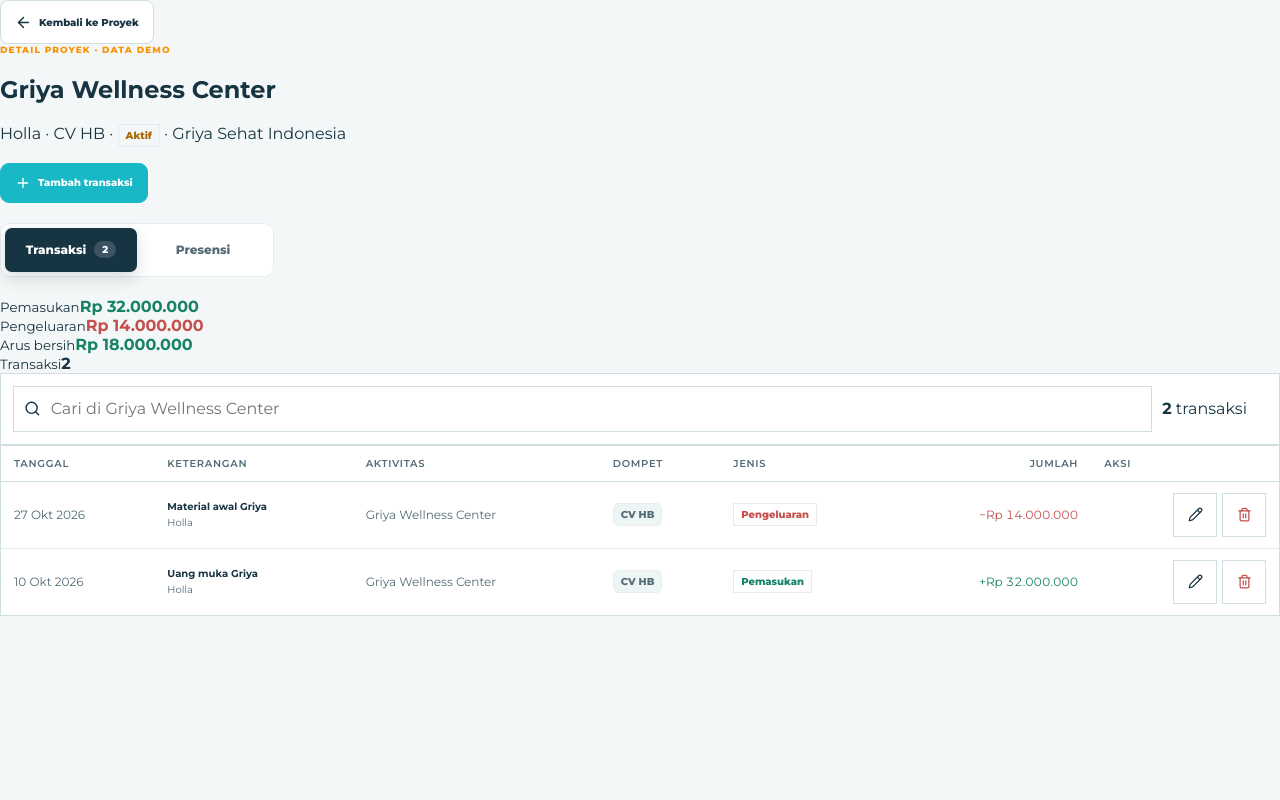
project presensi detail › shows paired selfie, location evidence, filters, and safe failure state
Click the tab "Presensi" at (203, 250), box [137,228,269,272]
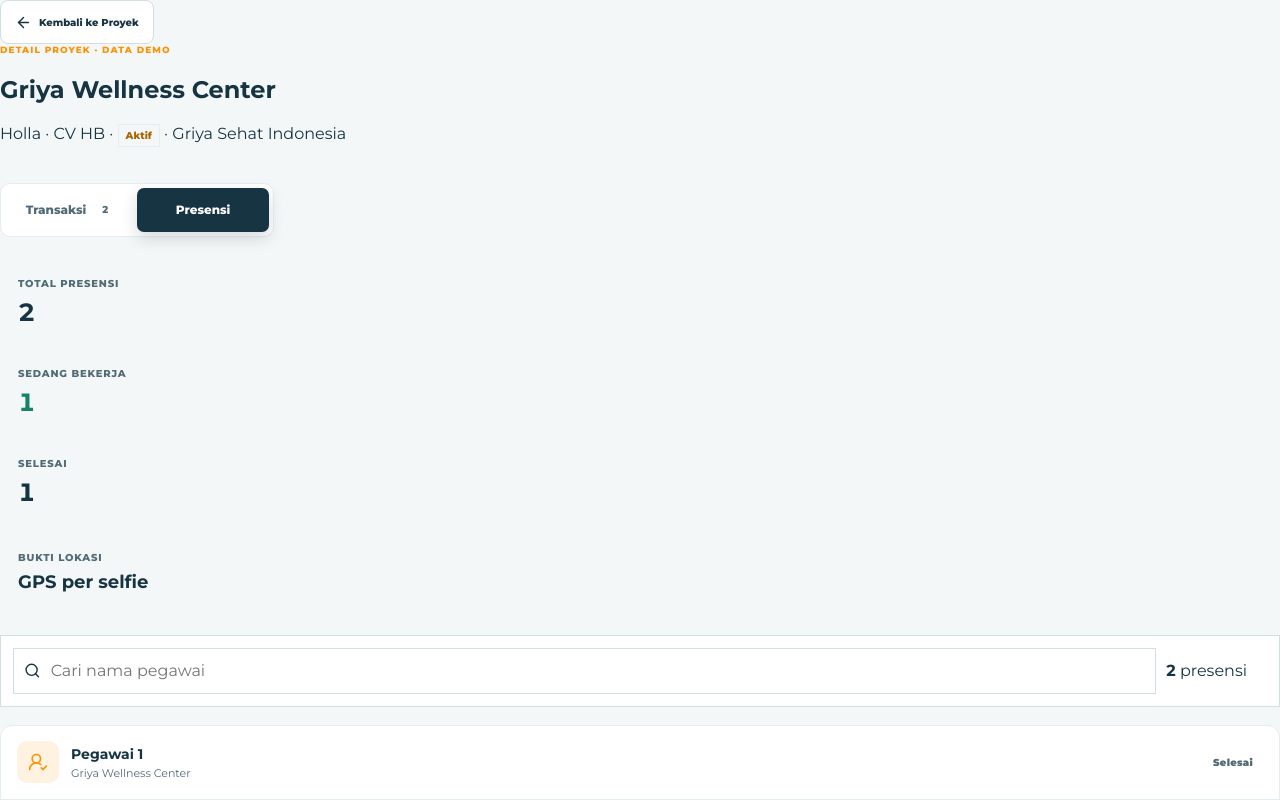
Type "Pegawai 2" into the field named "Cari presensi" at (597, 671), box [49,649,1145,693]
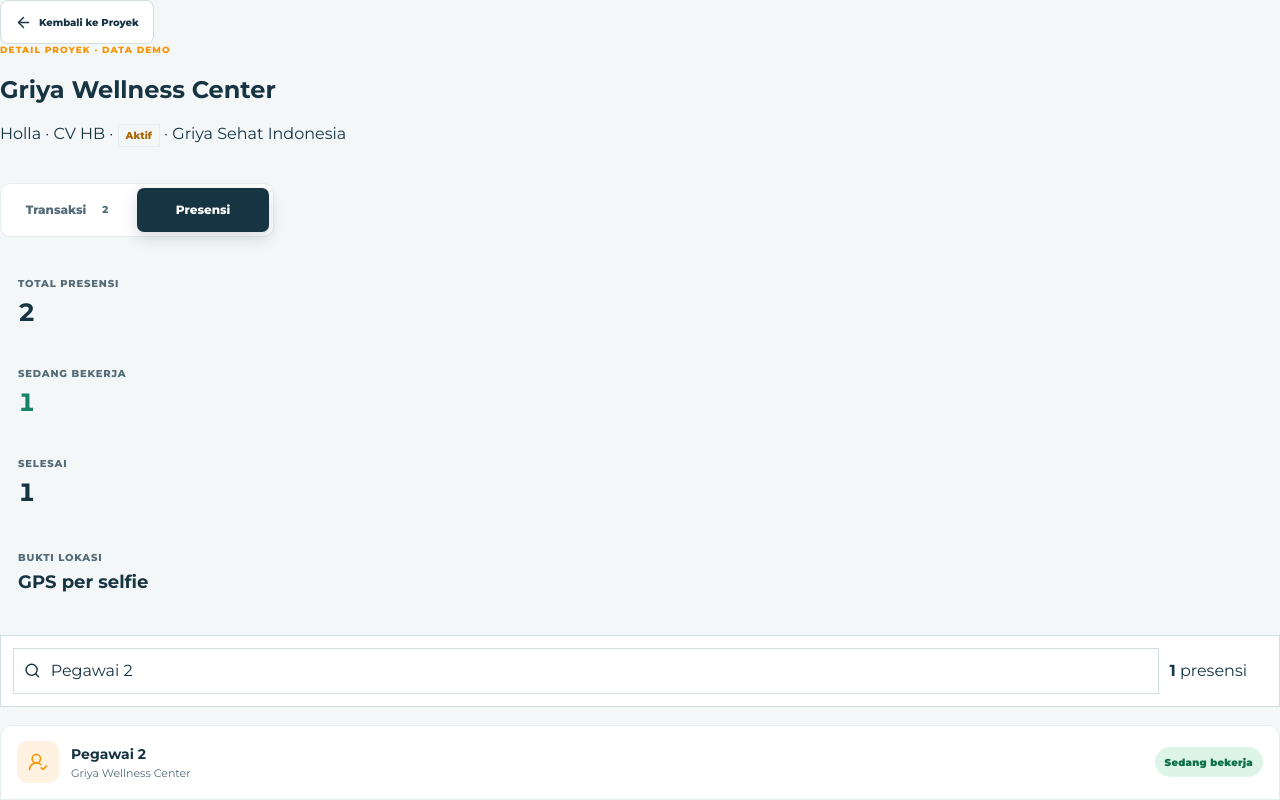
Check: the text "Pegawai 2" is shown, box [71,745,146,763]
Check: the text "Pegawai 1" is gone
